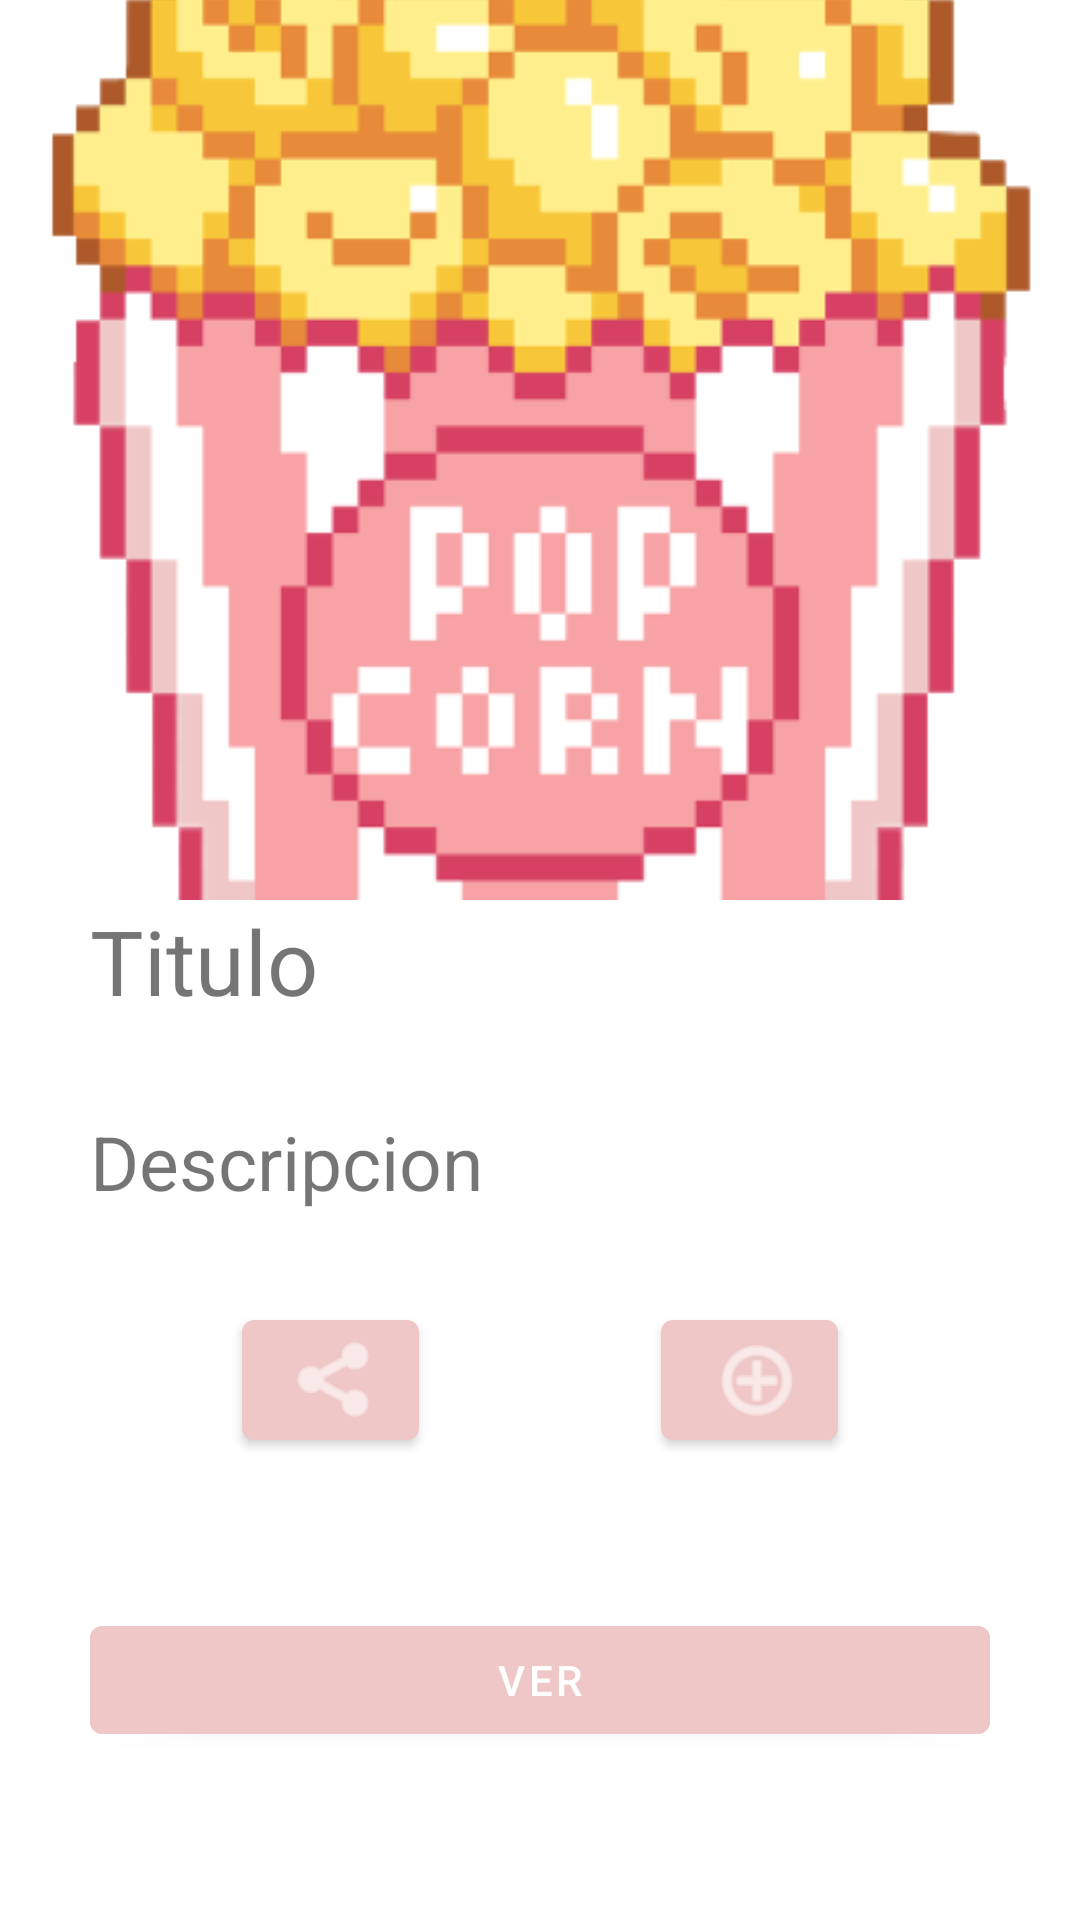

Screen size 1080*1920. Icon name, then its box in pixels as [x1=x1, y1=y1, x2=x2, y2=y2]:
add: [x1=661, y1=1320, x2=838, y2=1444]
share: [x1=242, y1=1320, x2=419, y2=1444]
